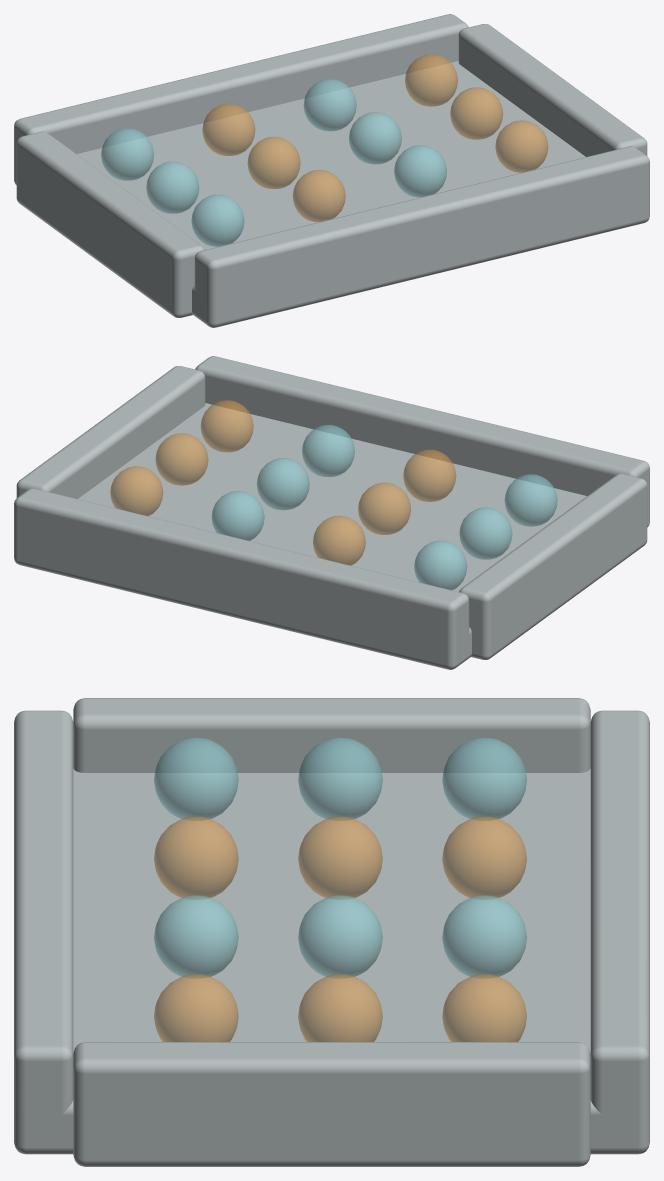
File: glassblowing-studio-and-gallery-frit-tray-3a52d7b9__29617.glb
3 views of the same model, one above another, from view 1: azimuth 30°, elevation 25°; view 2: azimuth 150°, elevation 25°; view 3: azimuth 270°, elevation 25° (orthographic). The views are drawn at different scales.
Parts seen in each view (by area): view 1: frit-tray; view 2: frit-tray; view 3: frit-tray.
Boxes of the visible parts, x1=… form: frit-tray: x1=14, y1=14, x2=649, y2=327; frit-tray: x1=14, y1=356, x2=649, y2=669; frit-tray: x1=14, y1=698, x2=649, y2=1166.
Bounding box in the file's own units: 0.515 × 0.08 × 0.375.
